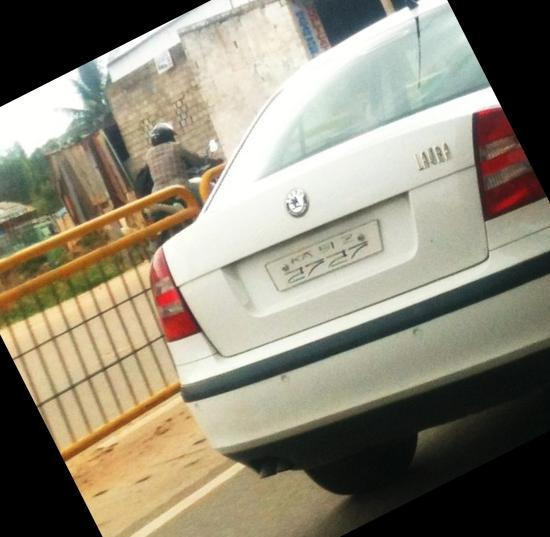plate: (258, 195, 406, 318)
